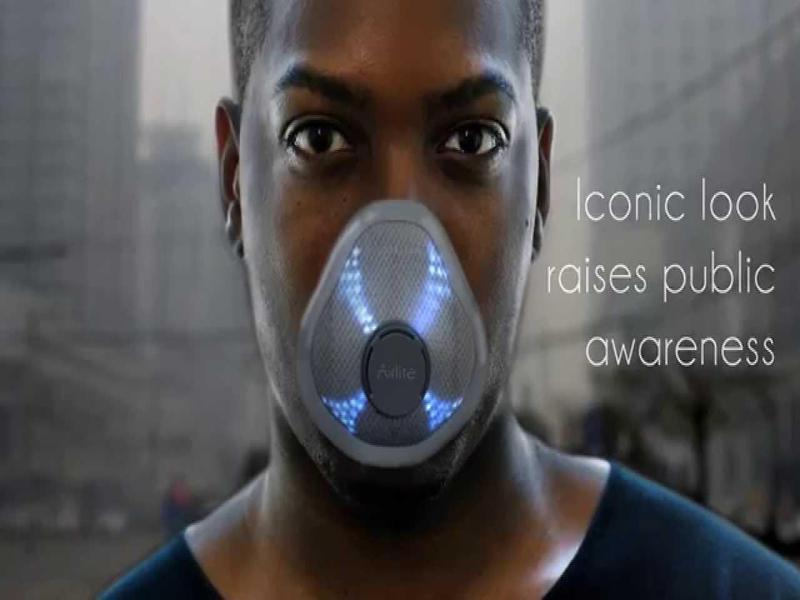with_mask: (236, 1, 544, 516)
